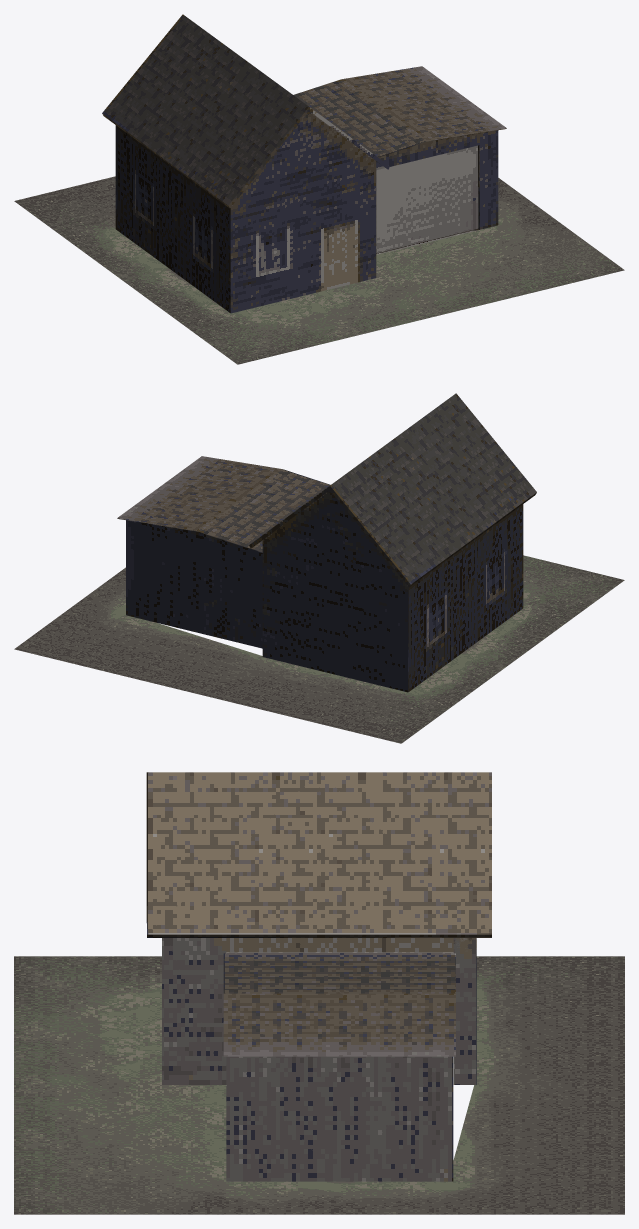
The model's file is house.glb.
3 views of the same model, one above another, from view 1: azimuth 30°, elevation 25°; view 2: azimuth 150°, elevation 25°; view 3: azimuth 270°, elevation 25° (orthographic). The views are drawn at different scales.
Visible parts, largest first — view 1: House, Plane, House.001; view 2: House, Plane, House.001; view 3: Plane, House, House.001.
Part boxes in pixels (x1=…): House: x1=102, y1=14, x2=389, y2=313; Plane: x1=14, y1=176, x2=624, y2=364; House.001: x1=293, y1=66, x2=506, y2=254; House: x1=249, y1=393, x2=536, y2=692; Plane: x1=14, y1=555, x2=624, y2=743; House.001: x1=117, y1=456, x2=330, y2=648; Plane: x1=14, y1=956, x2=624, y2=1214; House: x1=146, y1=772, x2=491, y2=1084; House.001: x1=223, y1=952, x2=455, y2=1181.
Size of the model in its own units: 6.19 by 2.95 by 6.19.
Materials: 2 (2 with a texture image).
